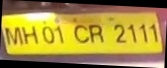character: (4, 27, 23, 46), (21, 25, 38, 45), (73, 23, 89, 44), (88, 24, 104, 43), (112, 23, 126, 43), (41, 26, 54, 44), (126, 24, 137, 43), (137, 24, 148, 42), (54, 25, 63, 43), (149, 24, 158, 42)
